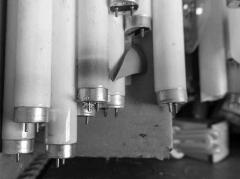lightbulb: (0, 0, 240, 168), (151, 0, 188, 112)
